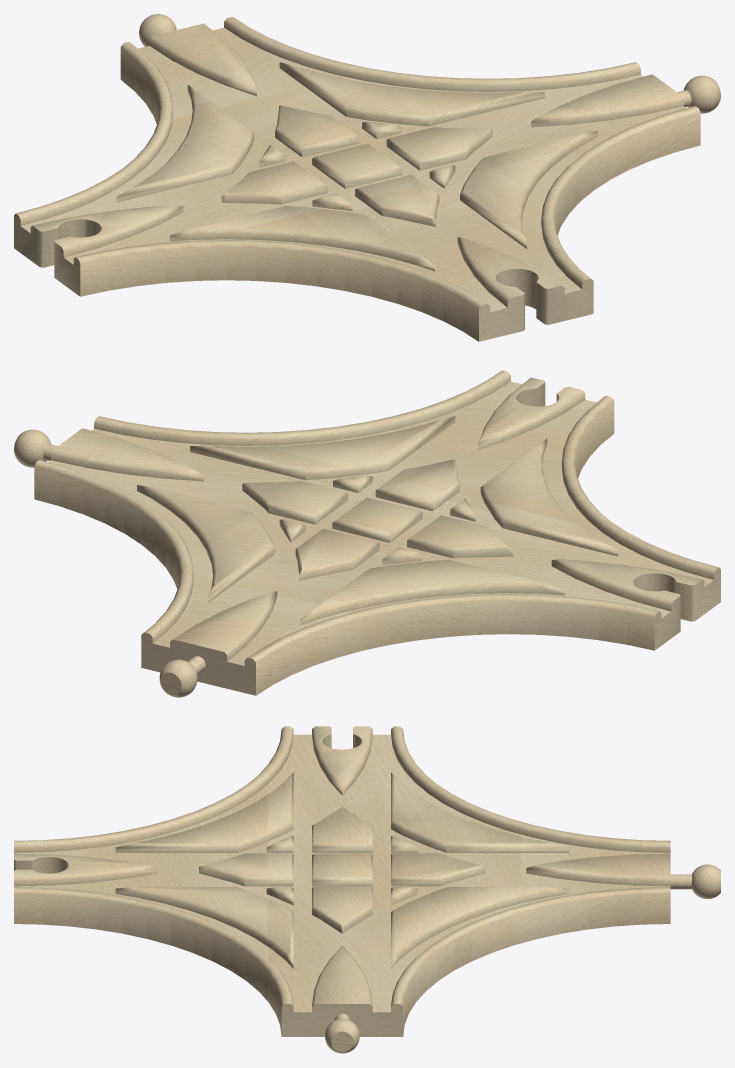
The picture shows the model from 3 angles, top to bottom: view 1: azimuth 30°, elevation 25°; view 2: azimuth 150°, elevation 25°; view 3: azimuth 270°, elevation 25°; orthographic projection. The views are drawn at different scales.
Visible parts, largest first — view 1: SketchUp (×10), _3d_peg (×2); view 2: SketchUp (×10), _3d_peg (×2); view 3: SketchUp (×10), _3d_peg (×2).
Part boxes in pixels (bbox=[...]): SketchUp (×10): bbox=[14, 16, 700, 341]; _3d_peg (×2): bbox=[139, 14, 720, 113]; SketchUp (×10): bbox=[34, 370, 720, 695]; _3d_peg (×2): bbox=[14, 429, 205, 697]; SketchUp (×10): bbox=[14, 726, 670, 1036]; _3d_peg (×2): bbox=[325, 864, 720, 1053].
Bounding box in the file's own units: 9.16 × 9.16 × 0.4724.
